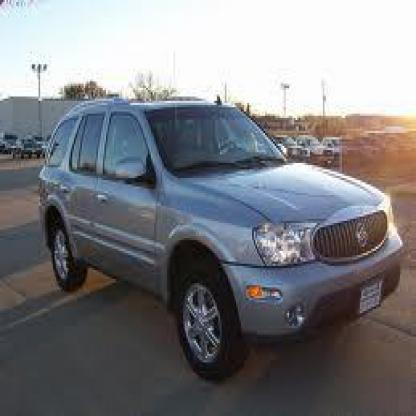Vehicle: (40, 103, 405, 382)
